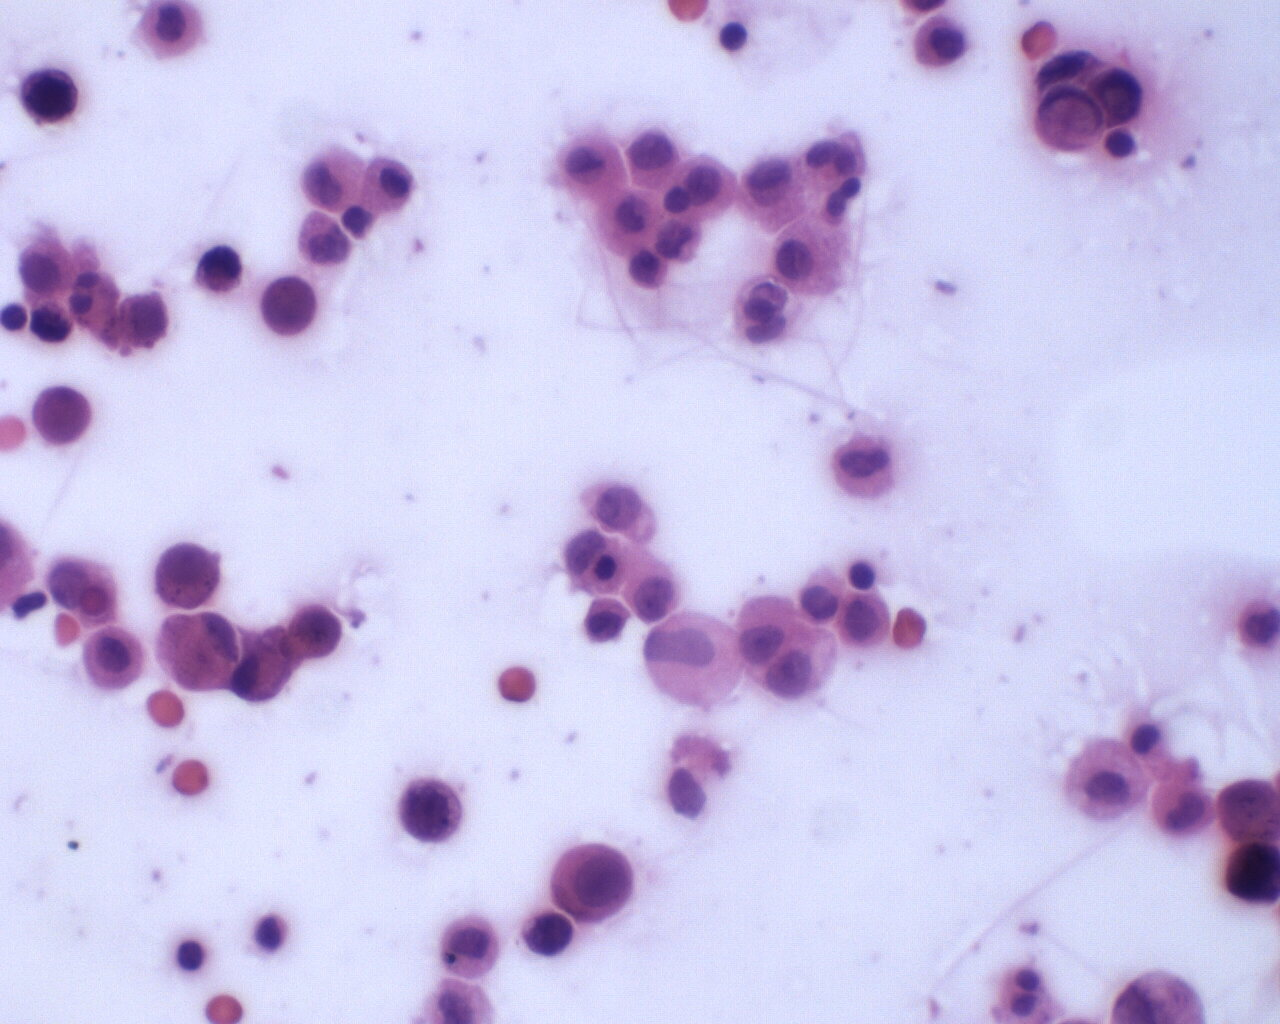ab: (551, 841, 636, 926), (154, 539, 224, 612), (17, 60, 87, 132), (399, 778, 467, 845), (255, 274, 321, 340), (622, 122, 684, 189), (30, 385, 96, 445), (286, 601, 348, 662), (1089, 62, 1146, 127), (835, 594, 894, 653), (118, 289, 169, 355), (193, 242, 245, 297), (581, 596, 632, 646), (522, 909, 573, 958)
lymph: (715, 14, 757, 57), (174, 938, 209, 973), (846, 559, 881, 594)
meso: (1063, 731, 1154, 829), (764, 215, 854, 297), (551, 131, 631, 201), (82, 623, 146, 693), (358, 153, 416, 217)
